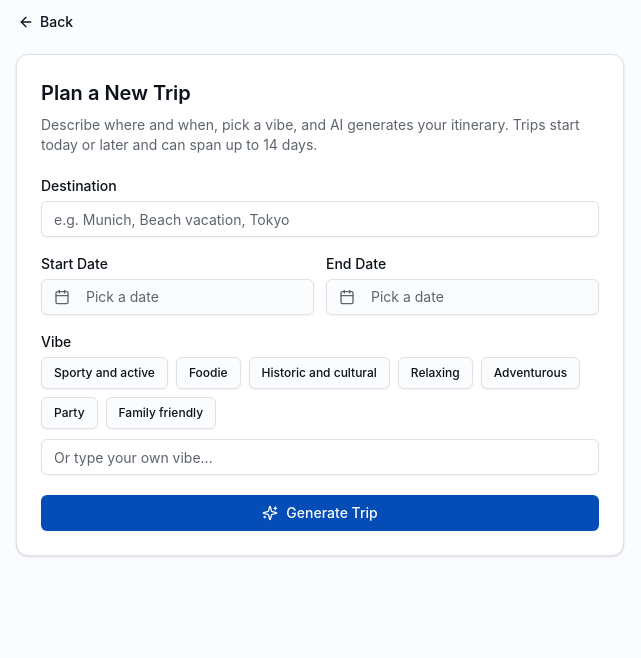
Test case: TripCreate › shows validation errors for an empty form
Click the button "Generate Trip": click(320, 513) [41, 495, 599, 531]
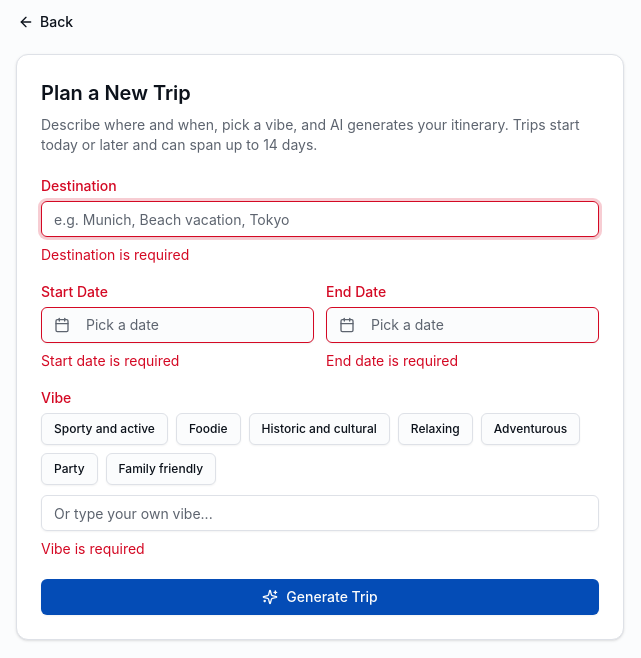
Result: the text "Destination is required" is shown at [41, 246, 189, 263]
Result: the text "Start date is required" is shown at [41, 352, 179, 369]
Result: the text "End date is required" is shown at [326, 352, 458, 369]
